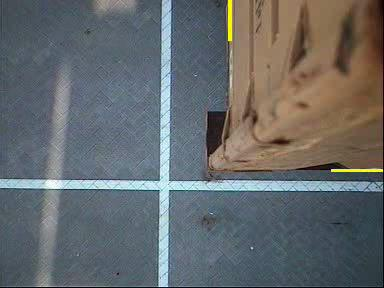groundmarker_2: (96, 50, 190, 128)
